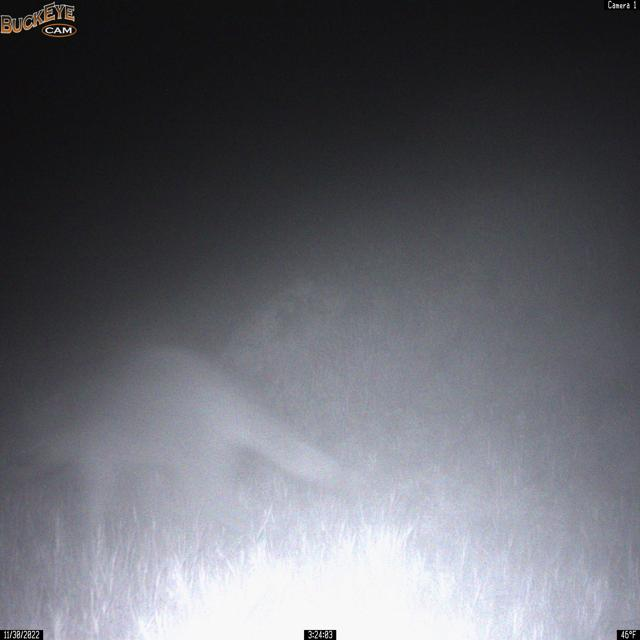coyote: (4, 342, 361, 544)
